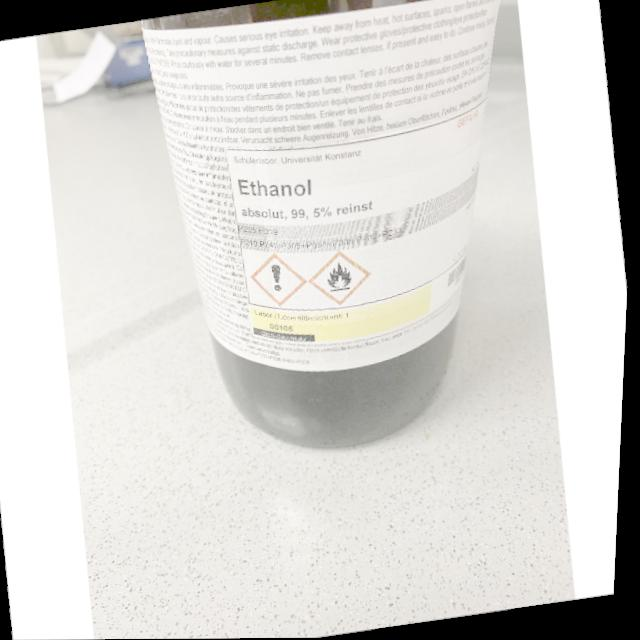flammable: (307, 246, 379, 310)
health-ozone layer hazard: (249, 249, 314, 309)
